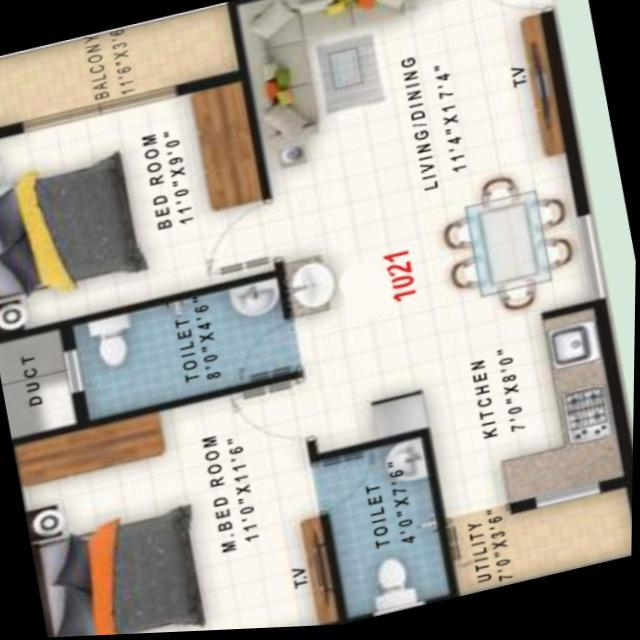Balcony-Sitout: (0, 5, 239, 125)
Bedroom: (0, 79, 276, 336)
Bedroom with Toilet: (13, 377, 454, 638)
Dining: (431, 165, 585, 336)
Enterance-Foyer: (452, 0, 553, 42)
Kitchen: (415, 308, 626, 530)
Living: (237, 0, 572, 228)
Toilet: (71, 276, 299, 424), (321, 440, 453, 624)
Utility: (445, 494, 633, 602)
